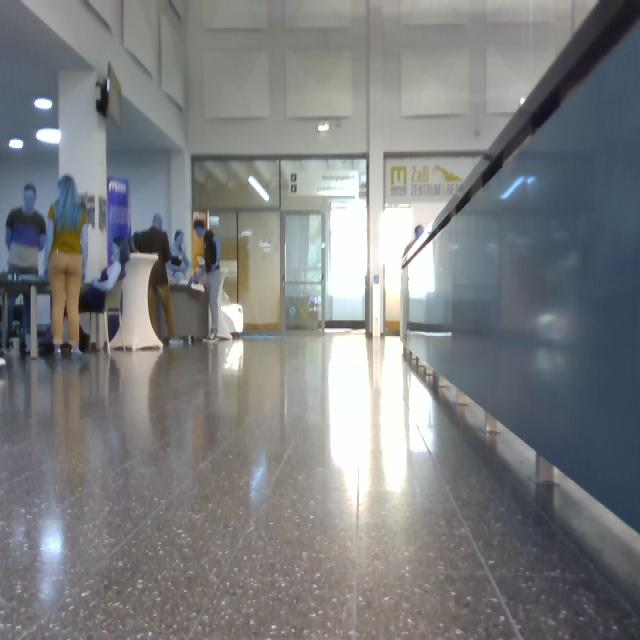chair: (82, 280, 122, 349)
door: (239, 213, 281, 333), (285, 214, 324, 330)
light bulb: (249, 176, 270, 202), (36, 129, 59, 145), (35, 98, 53, 110), (9, 138, 24, 150), (319, 121, 329, 132), (209, 216, 219, 226)
person: (49, 174, 88, 352), (133, 214, 178, 345), (82, 237, 131, 313), (7, 185, 46, 280), (167, 230, 190, 284), (404, 225, 424, 258)
pillar: (59, 72, 108, 281)
staircase: (401, 1, 640, 618)
table: (1, 274, 46, 358)
tiled floor: (1, 336, 640, 640)
